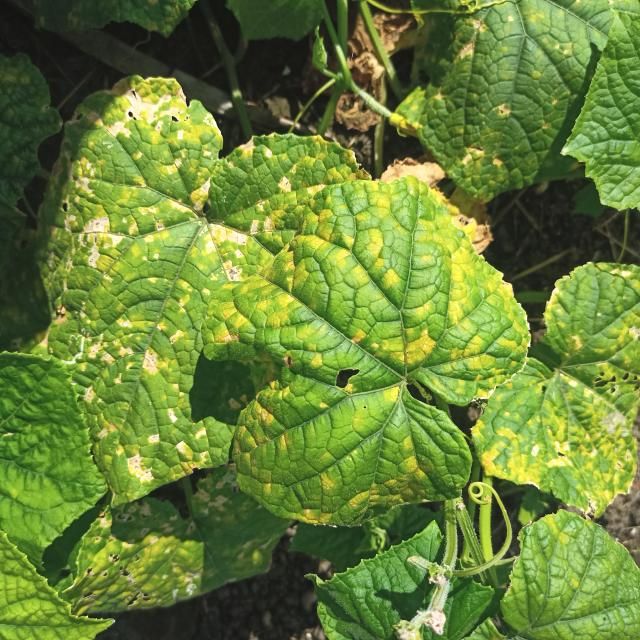disease_cucumber: (204, 173, 513, 526), (30, 71, 255, 481), (71, 458, 274, 610), (480, 330, 640, 516)
